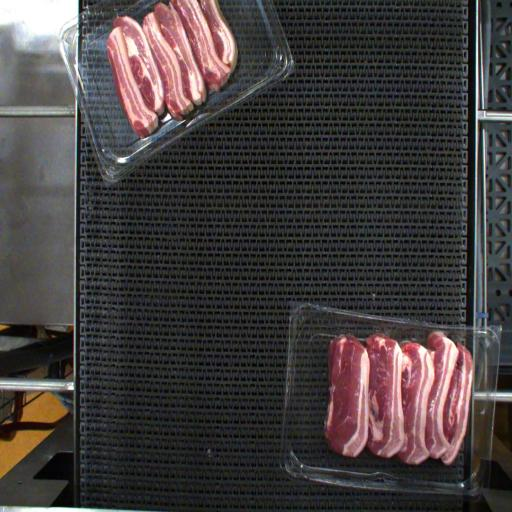packaging-error: (369, 322, 395, 340), (432, 328, 453, 336)
